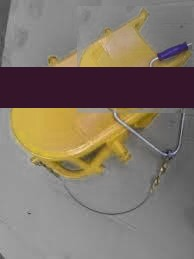chock: (9, 25, 175, 180), (77, 6, 192, 113)
